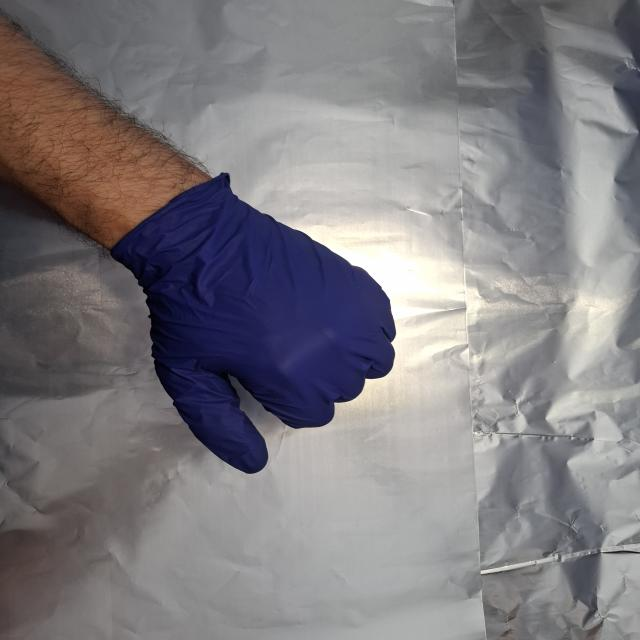glove_on: (122, 184, 401, 477)
